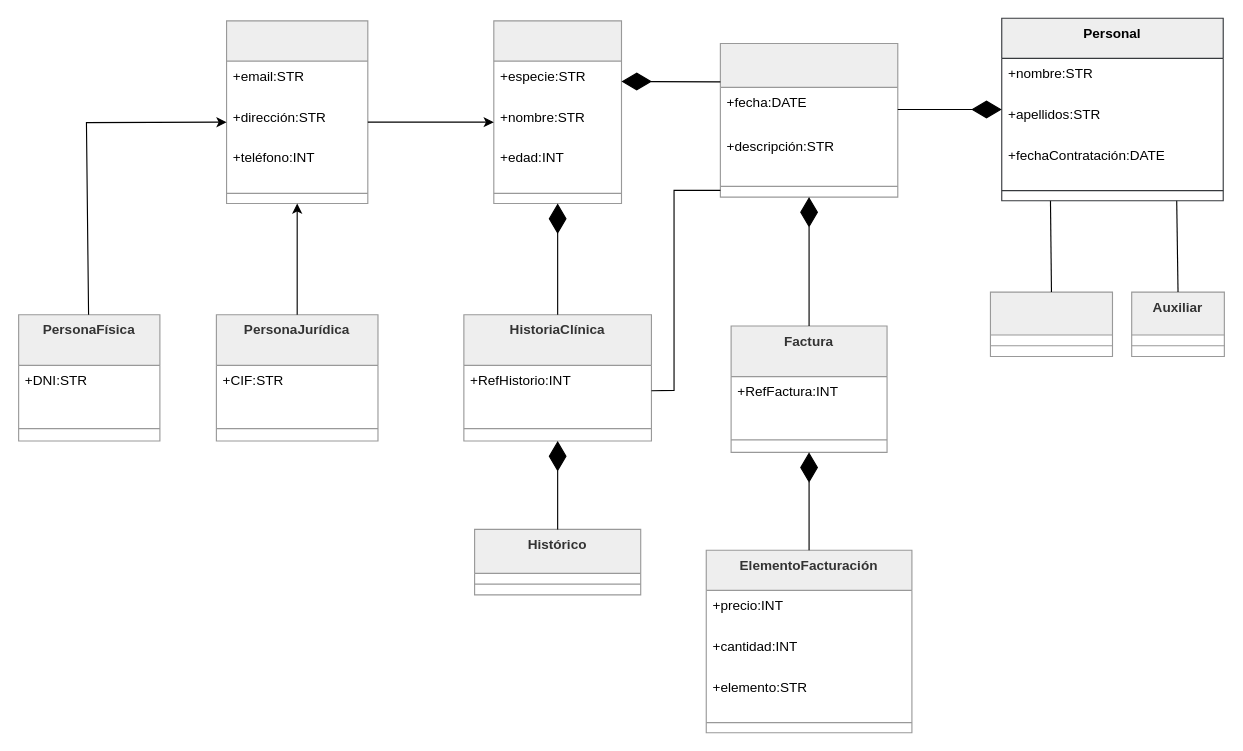
The diagram is 1243 pixels wide and 751 high, and some of its shapes have lost their labels. Here are the shapes that lost their labels. From the top down, the box of each, then its label:
(225, 20, 368, 204): Cliente
(493, 20, 621, 204): Animal
(719, 42, 898, 197): Diagnóstico
(989, 291, 1112, 357): Veterinario
